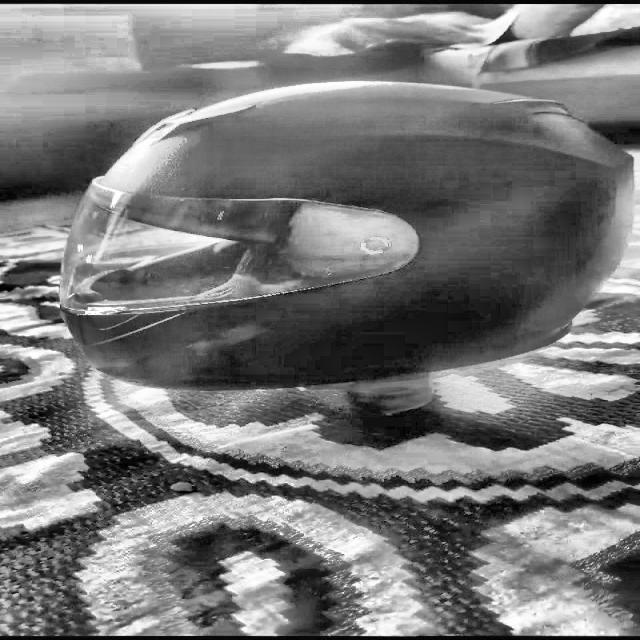Helmet: (85, 79, 640, 383)
